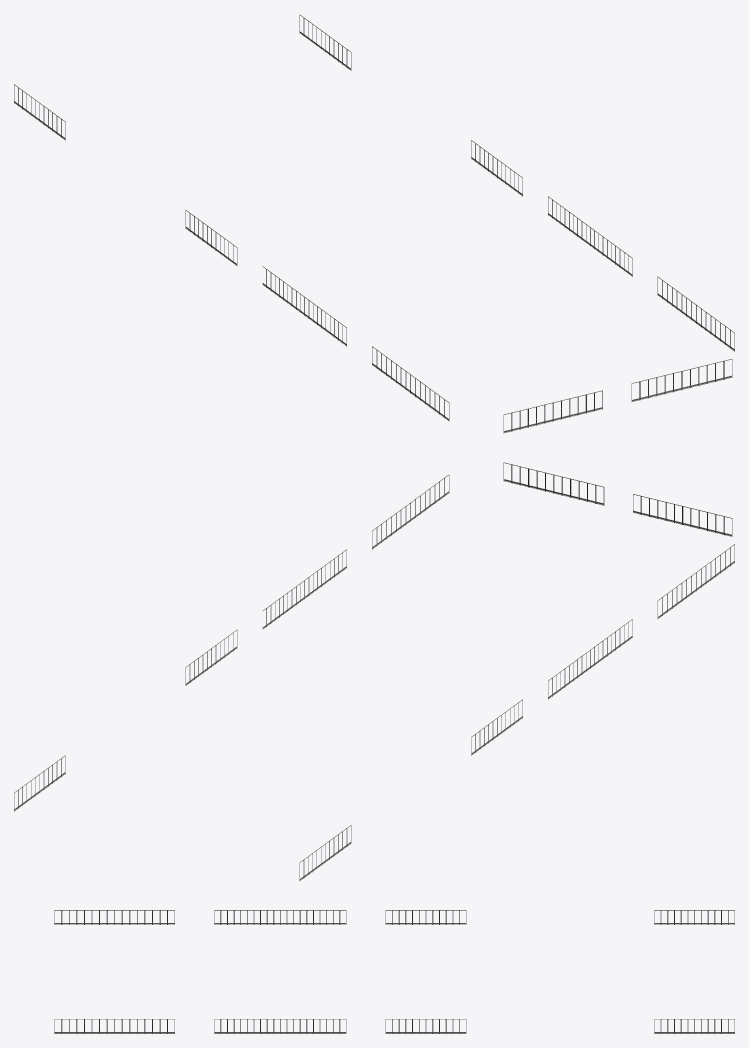
File: olympcrail01_lvs.obj
3 views of the same model, one above another, from view 1: azimuth 30°, elevation 25°; view 2: azimuth 150°, elevation 25°; view 3: azimuth 270°, elevation 25° (orthographic). The views are drawn at different scales.
Parts seen in each view (by area): view 1: olympcrail01_lvs; view 2: olympcrail01_lvs; view 3: olympcrail01_lvs.
Boxes of the visible parts, x1,y1,x2,y2 form: olympcrail01_lvs: [14, 14, 734, 433]; olympcrail01_lvs: [14, 462, 734, 881]; olympcrail01_lvs: [54, 910, 734, 1033].
Bounding box in the file's own units: 11.04 × 0.7046 × 30.85.
1 material, 1 textured.
